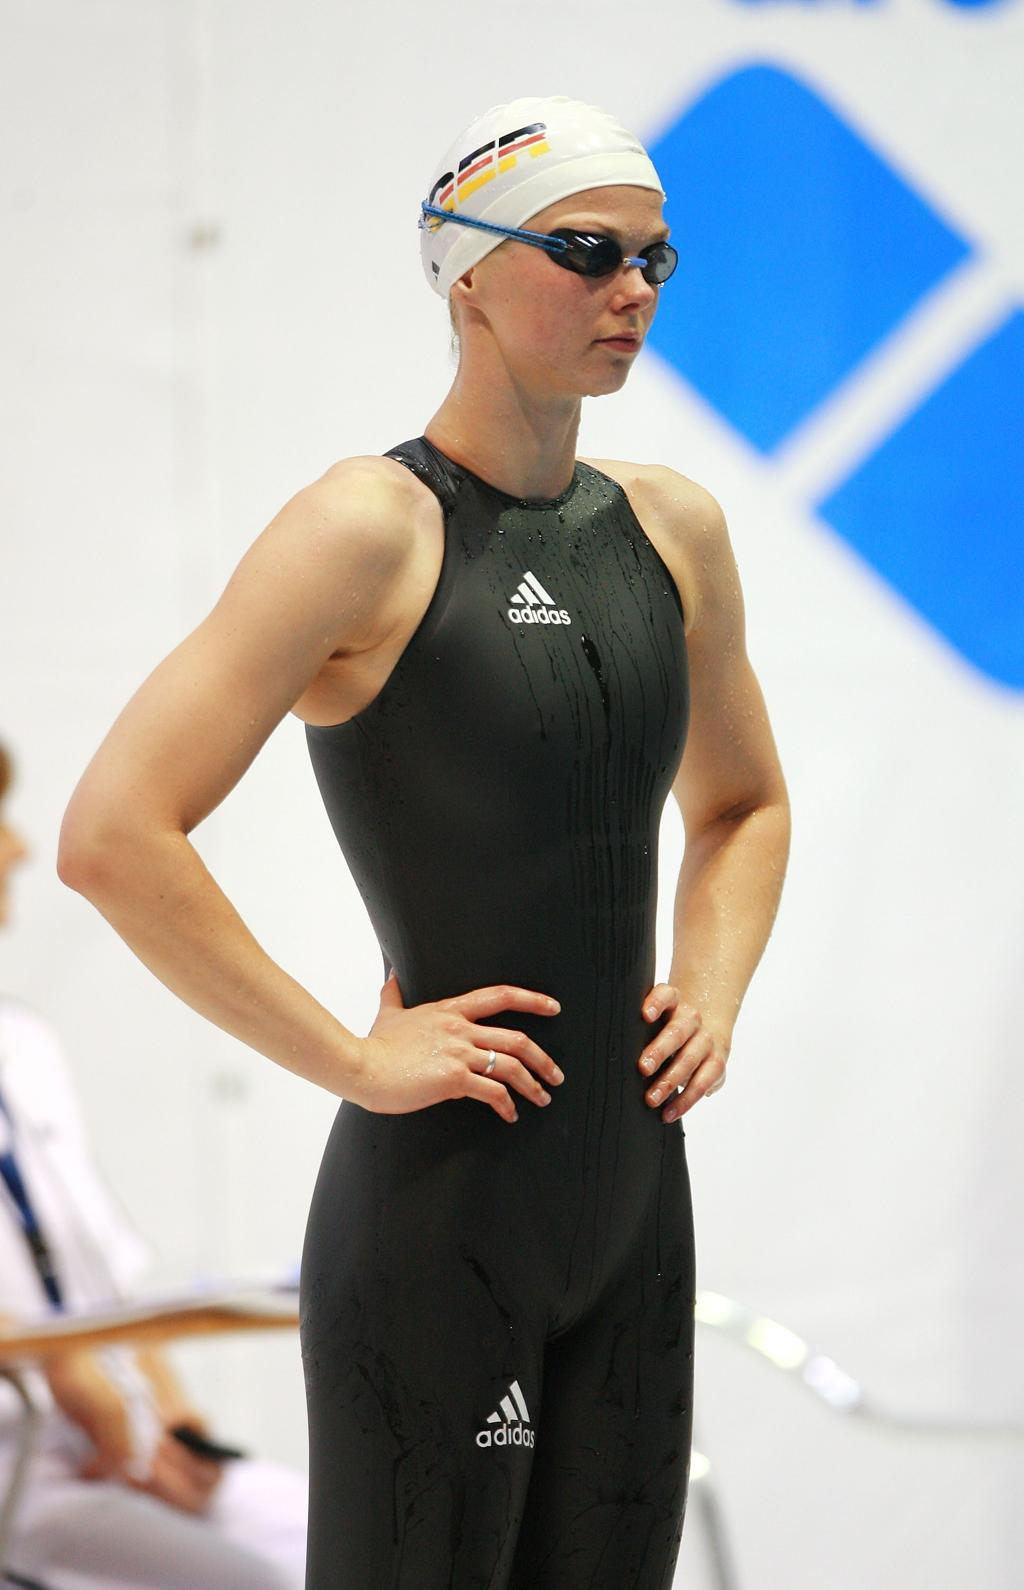face: (478, 180, 664, 400)
